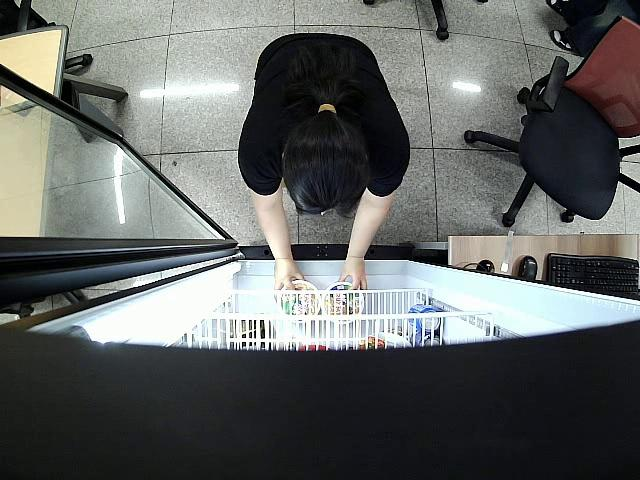00_hand: (271, 260, 307, 306), (337, 261, 368, 291)
09_yukGaeJang: (276, 279, 320, 323), (322, 283, 363, 325)
